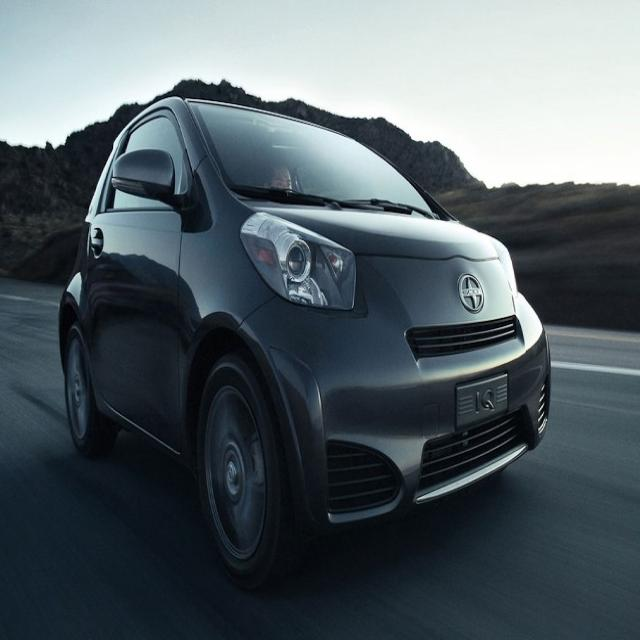front_bumper: (246, 257, 548, 528)
front_glass: (191, 99, 434, 220)
front_right_side_door: (84, 103, 197, 459)
front_right_side_light: (240, 207, 360, 317)
front_right_side_mirror: (110, 147, 180, 211)
wheel: (199, 358, 284, 590), (63, 324, 103, 455)
